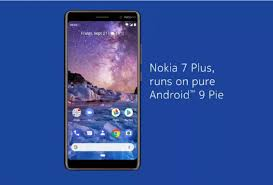nokia: (64, 7, 142, 175)
